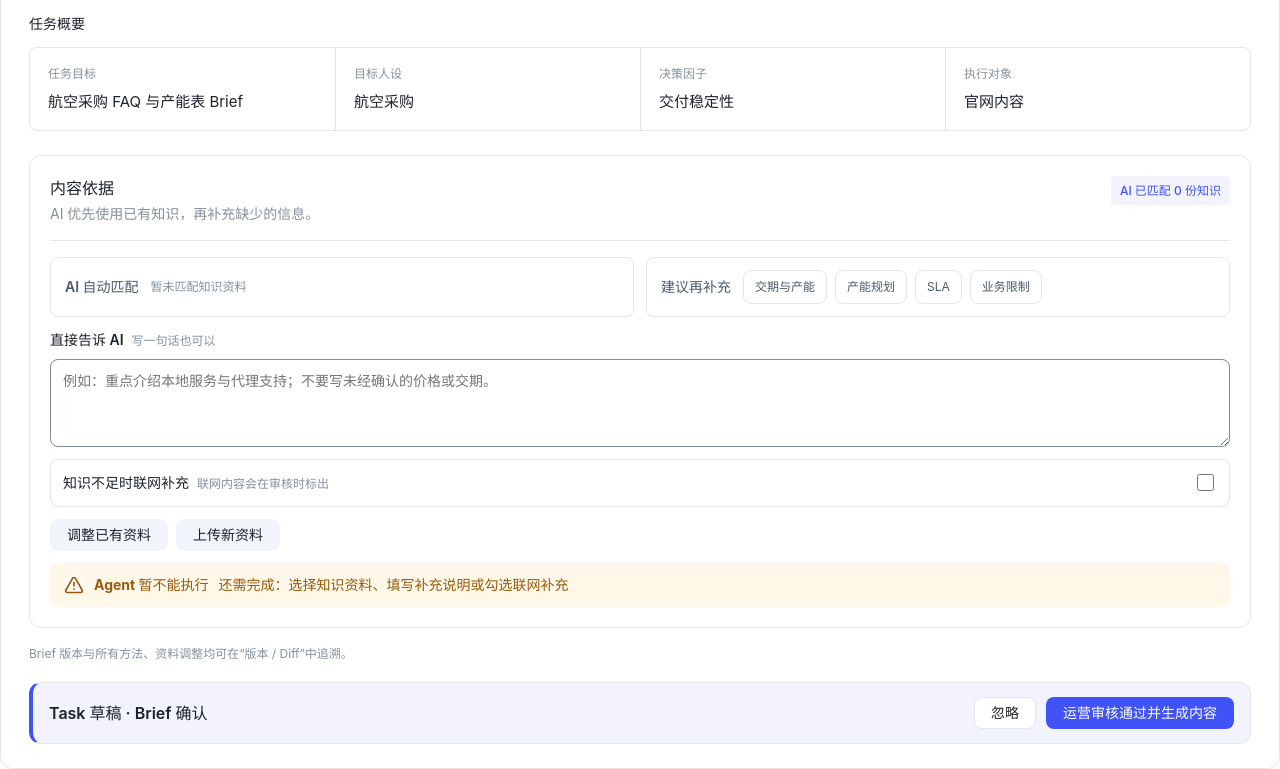
Test: task workspace task confirmation › confirms the task when operations provides a direct AI instruction without knowledge materials
The width and height of the screenshot is (1280, 769).
(page scrolled)
Type "重点介绍本地服务，不补充未经确认的承诺。" into the text box labelled "直接告诉 AI 写一句话也可以". click: (640, 403)
box: [50, 359, 1230, 447]
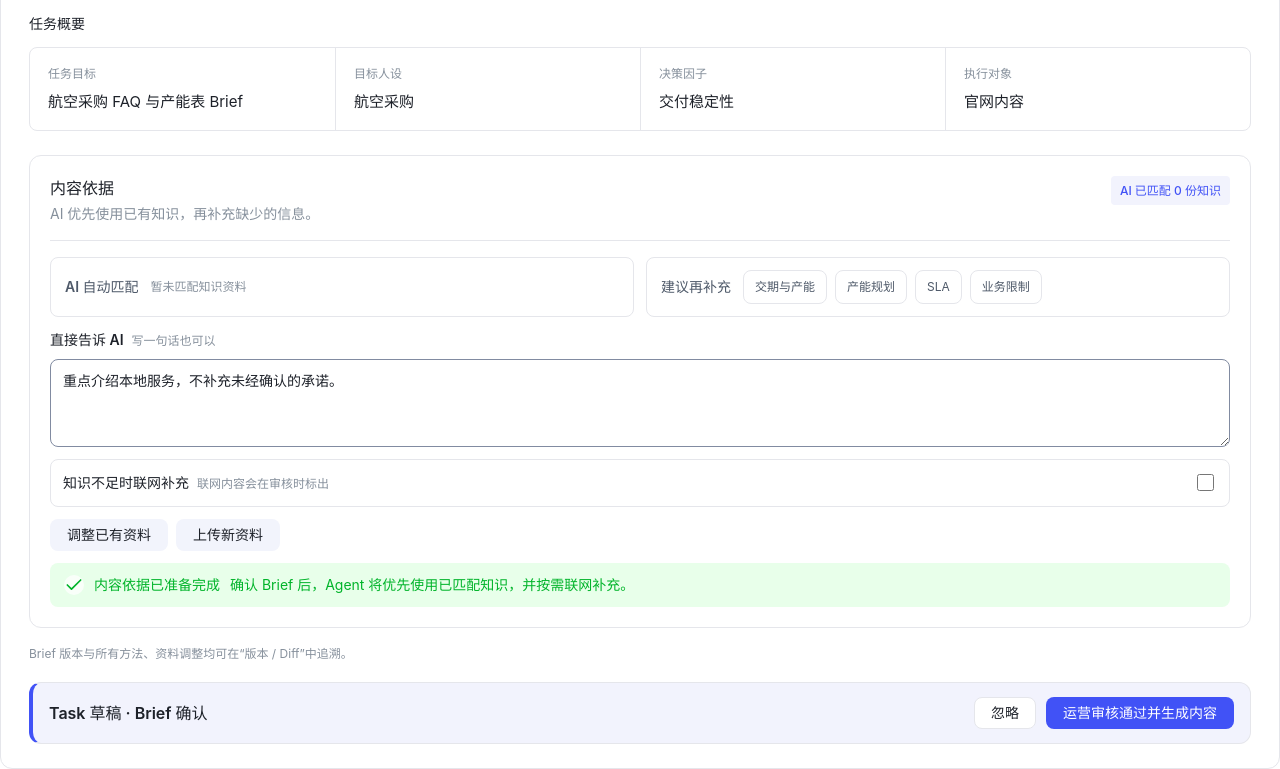
Expected: the text "内容依据已准备完成" is shown, [94, 575, 220, 595]
Click the button "运营审核通过并生成内容". click: (1140, 713)
box: [1046, 697, 1234, 729]
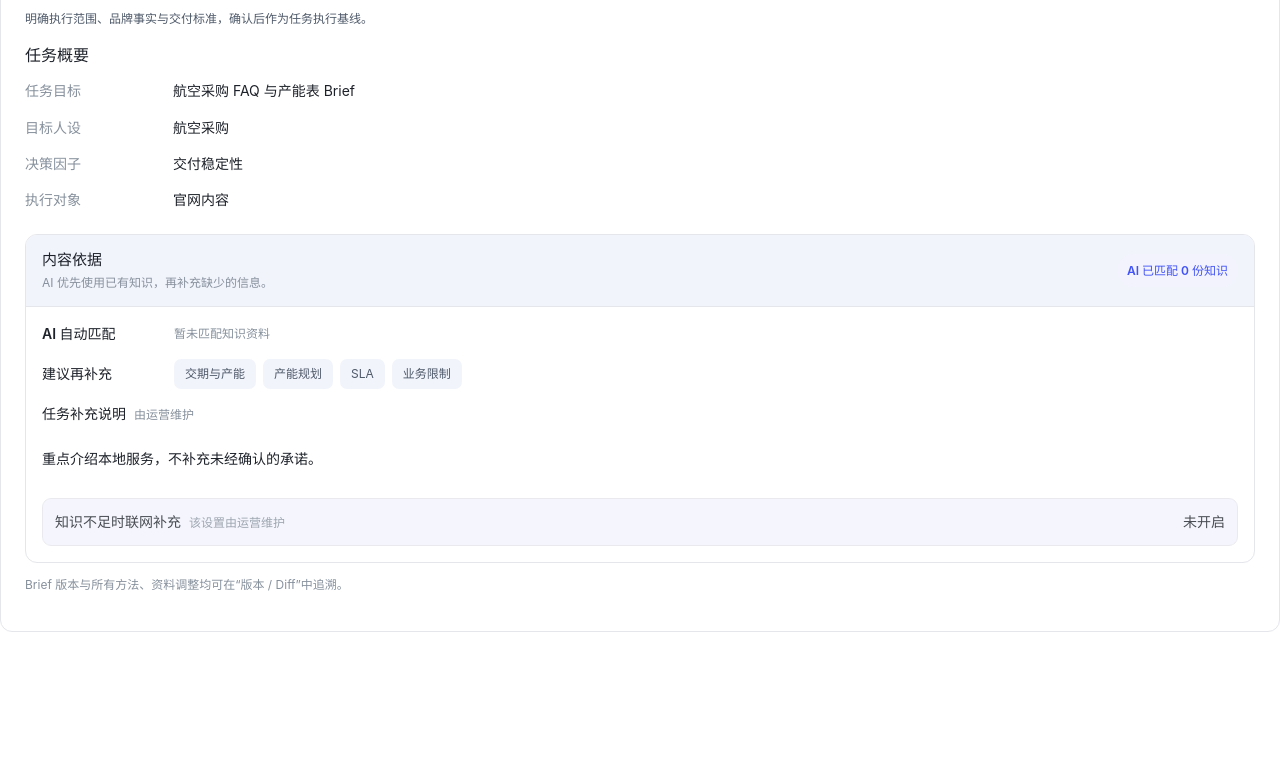
Expected: the text "重点介绍本地服务，不补充未经确认的承诺。" is shown, [42, 450, 322, 467]
